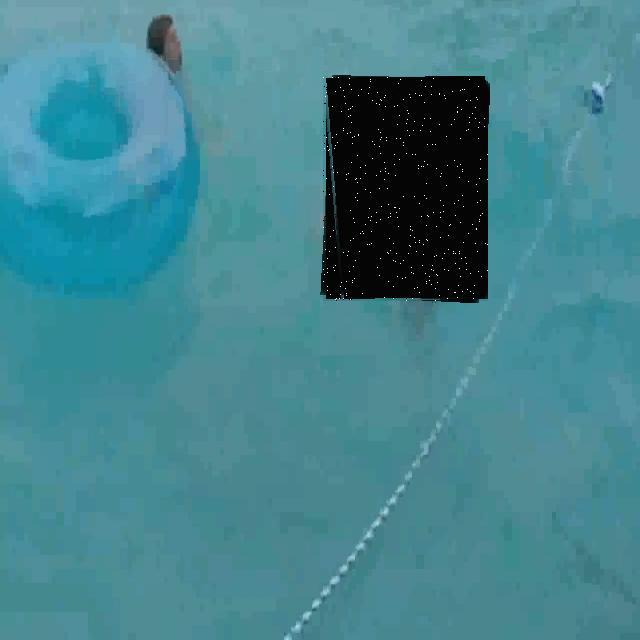Out of Water: (323, 76, 488, 301)
